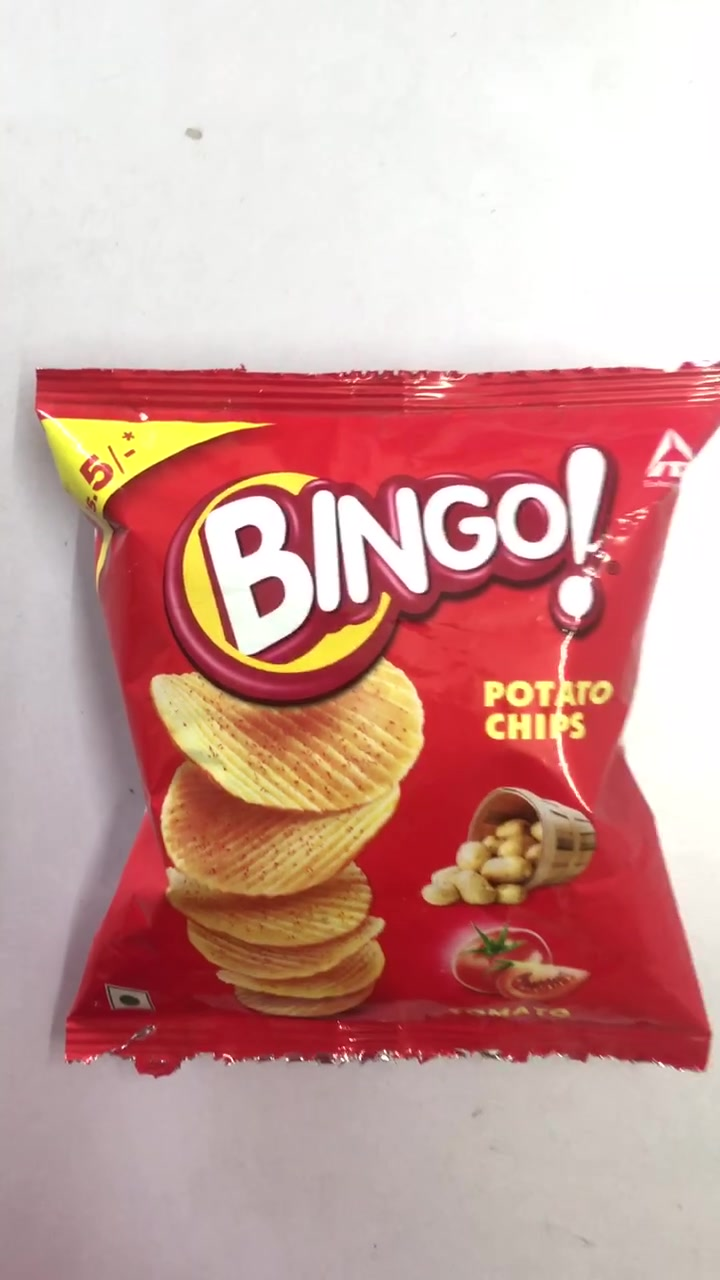Bingo: (37, 367, 720, 1078)
